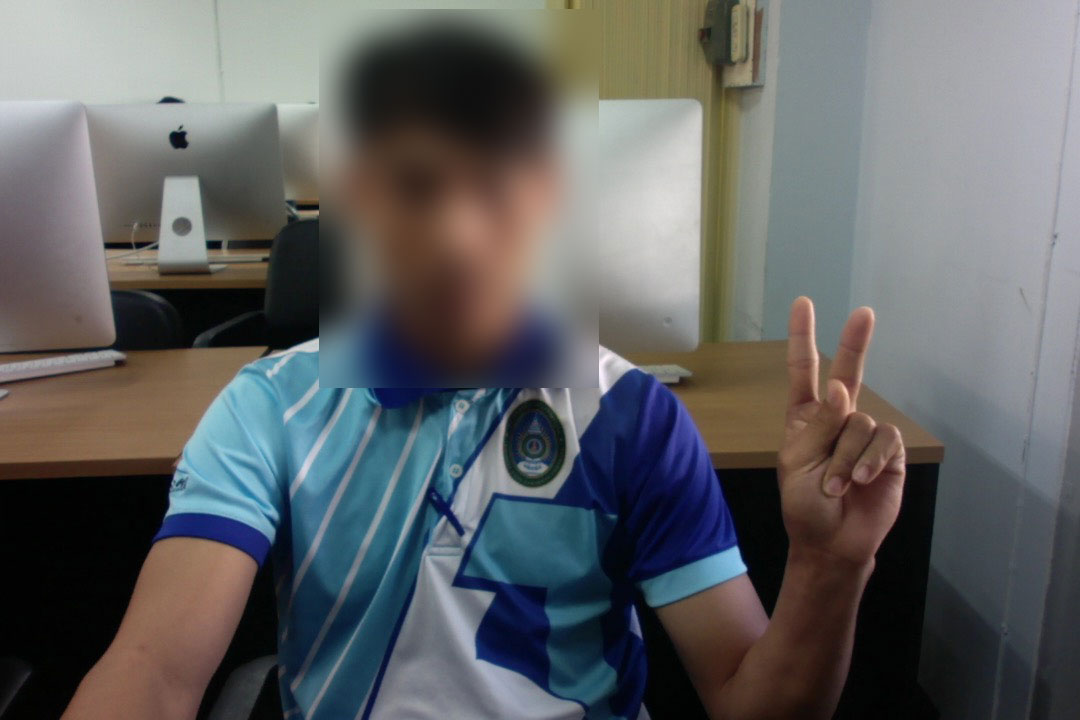ko: (768, 292, 914, 561)
